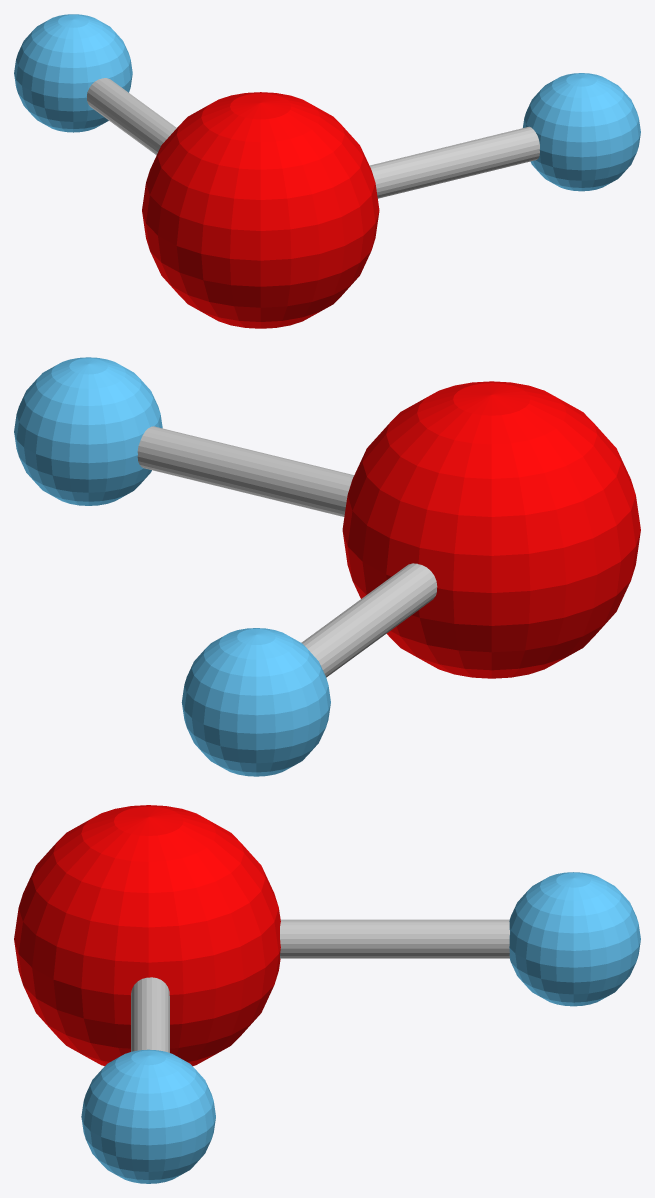
3 renders of one model, top to bottom at view 1: azimuth 30°, elevation 25°; view 2: azimuth 150°, elevation 25°; view 3: azimuth 270°, elevation 25°, orthographic. The views are drawn at different scales.
Parts seen in each view (by area): view 1: group_4, group_1, group_3, group_0, group_2; view 2: group_4, group_3, group_1, group_0, group_2; view 3: group_4, group_1, group_3, group_2, group_0.
Boxes of the visible parts, <box> form: group_4: <box>142,92,379,328</box>; group_1: <box>523,73,640,191</box>; group_3: <box>14,14,132,132</box>; group_0: <box>370,126,539,198</box>; group_2: <box>87,78,176,154</box>; group_4: <box>342,381,640,678</box>; group_3: <box>181,628,330,776</box>; group_1: <box>14,357,162,505</box>; group_0: <box>137,426,353,516</box>; group_2: <box>301,563,437,677</box>; group_4: <box>14,805,280,1066</box>; group_1: <box>81,1049,215,1183</box>; group_3: <box>509,872,640,1006</box>; group_2: <box>280,919,509,958</box>; group_0: <box>131,977,169,1052</box>.
Size of the model in its own units: 27.28 by 27.48 by 11.81.
